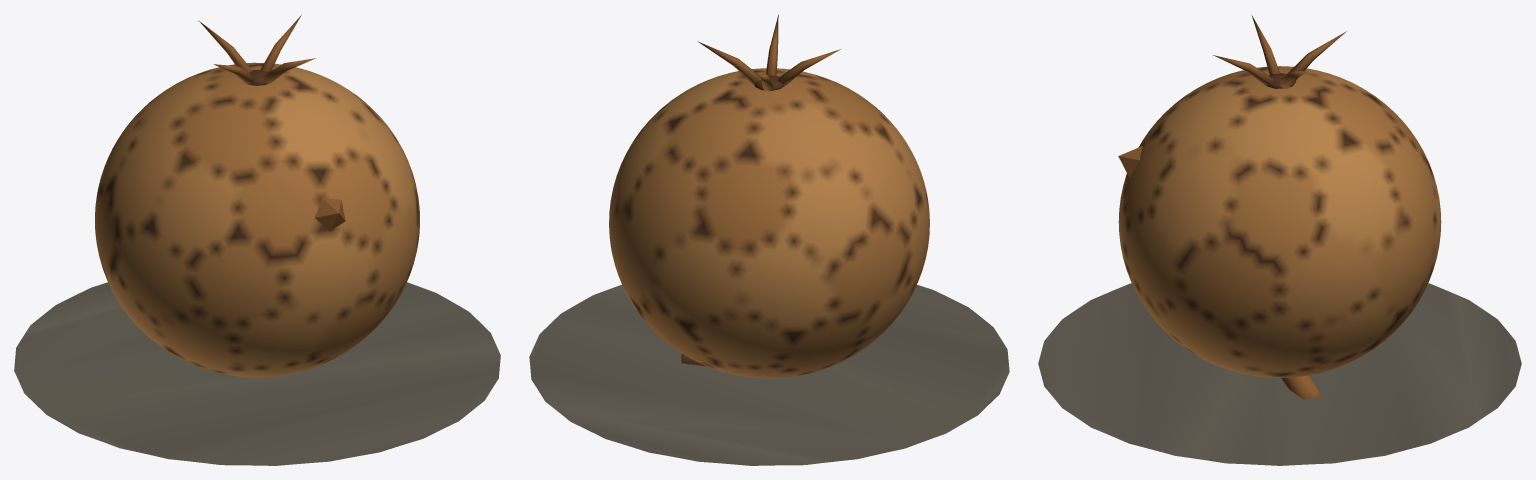
File: EchinosphaeritesAurantium.fbx
3 views of the same model, side by side, from view 1: azimuth 30°, elevation 25°; view 2: azimuth 150°, elevation 25°; view 3: azimuth 270°, elevation 25° (orthographic).
Visible parts, largest first — view 1: EchinosphaeritesAurantium; view 2: EchinosphaeritesAurantium; view 3: EchinosphaeritesAurantium.
Boxes of the visible parts, x1,y1,x2,y2 form: EchinosphaeritesAurantium: [14, 15, 500, 465]; EchinosphaeritesAurantium: [529, 14, 1009, 465]; EchinosphaeritesAurantium: [1038, 15, 1521, 465].
Bounding box in the file's own units: 1.5 × 1.15 × 1.5.
